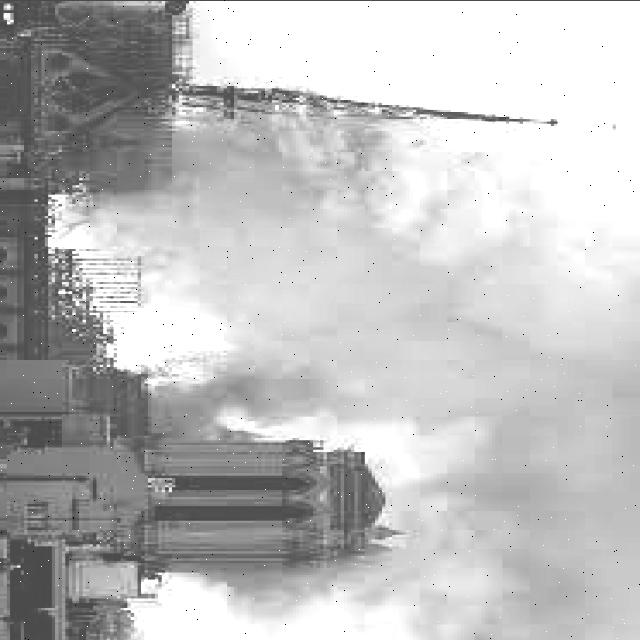api: (108, 294, 284, 396)
